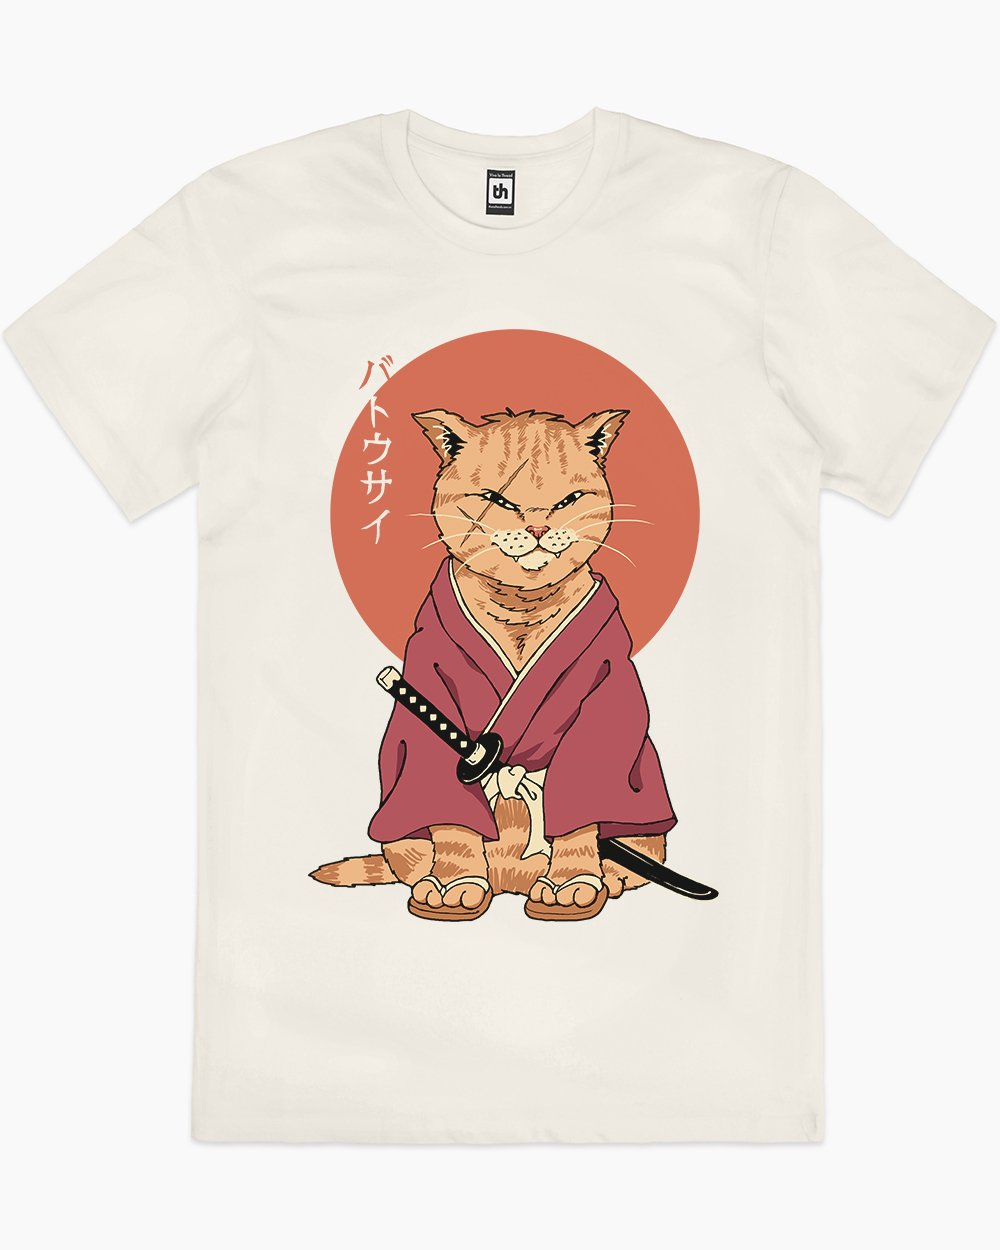design: (302, 324, 724, 924)
